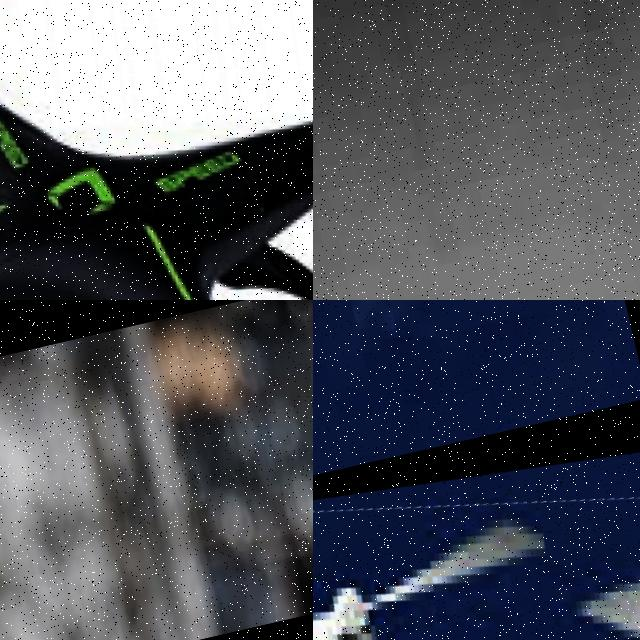0: (0, 547, 313, 640)
drone: (0, 0, 313, 300), (313, 398, 640, 640)
